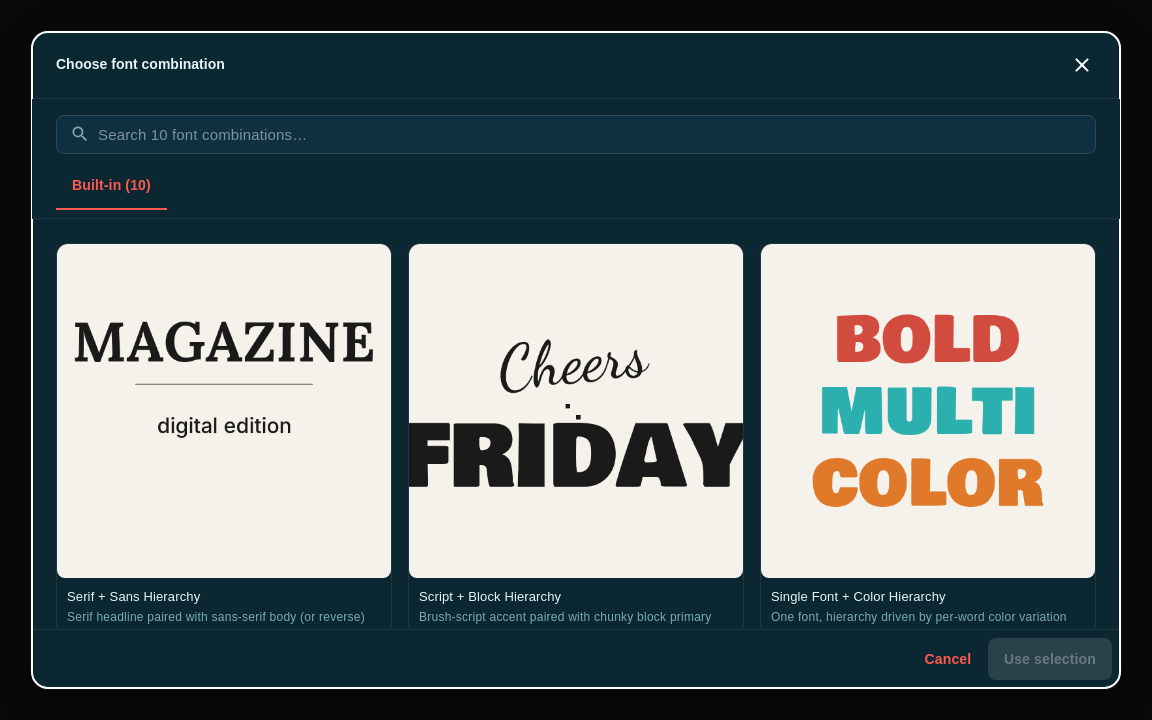
Test: FontCombinationPickerModal › clicking a card sets local selection and enables "Use selection"
Expected: the button "Use selection" is disabled, [988,638,1112,680]
Step 1. Click the button with aria-label "Select Serif + Sans Hierarchy" → (224, 440), box [57,244,391,636]
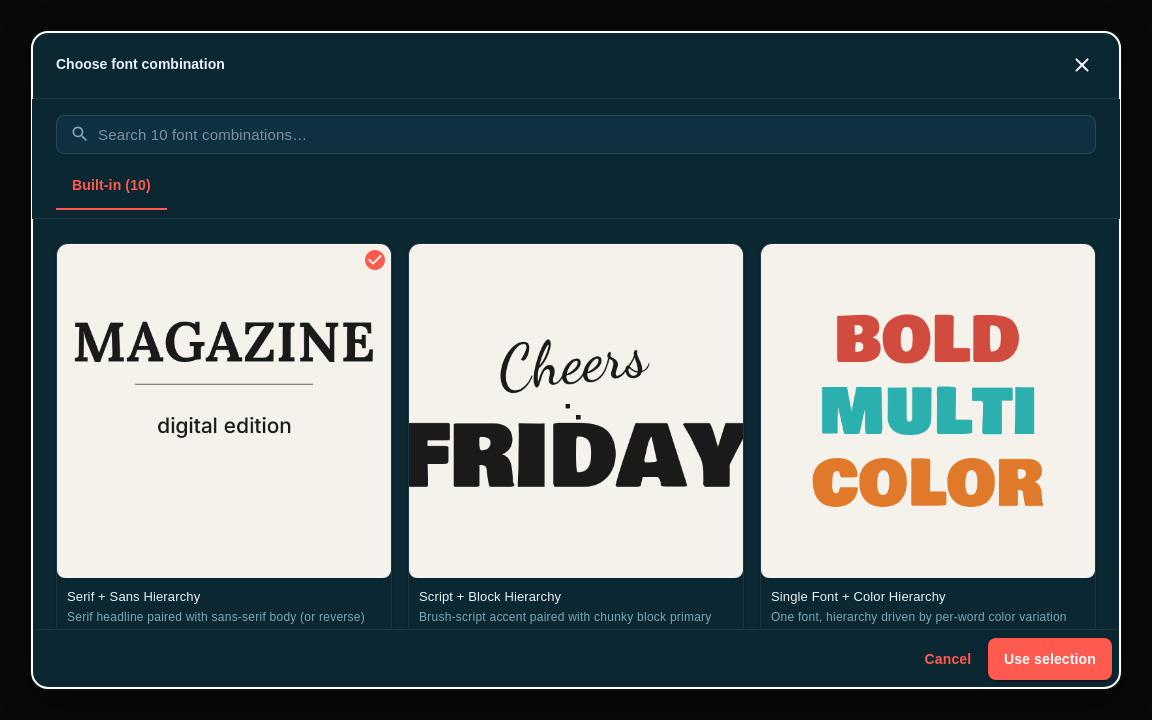
Result: the button "Use selection" is enabled at [988,638,1112,680]
